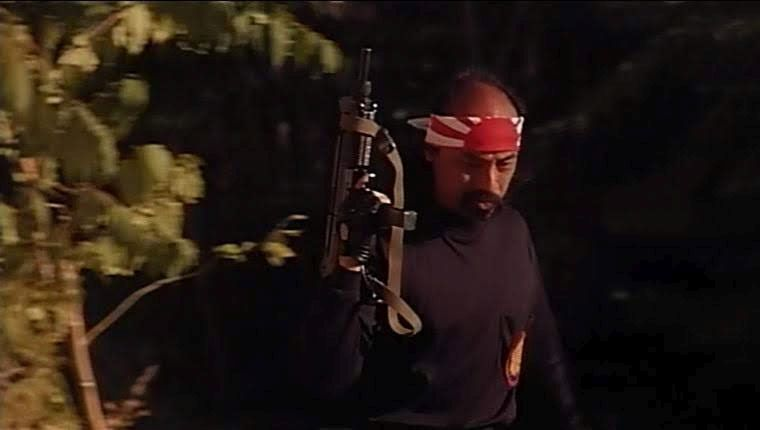gun: (324, 38, 421, 323)
